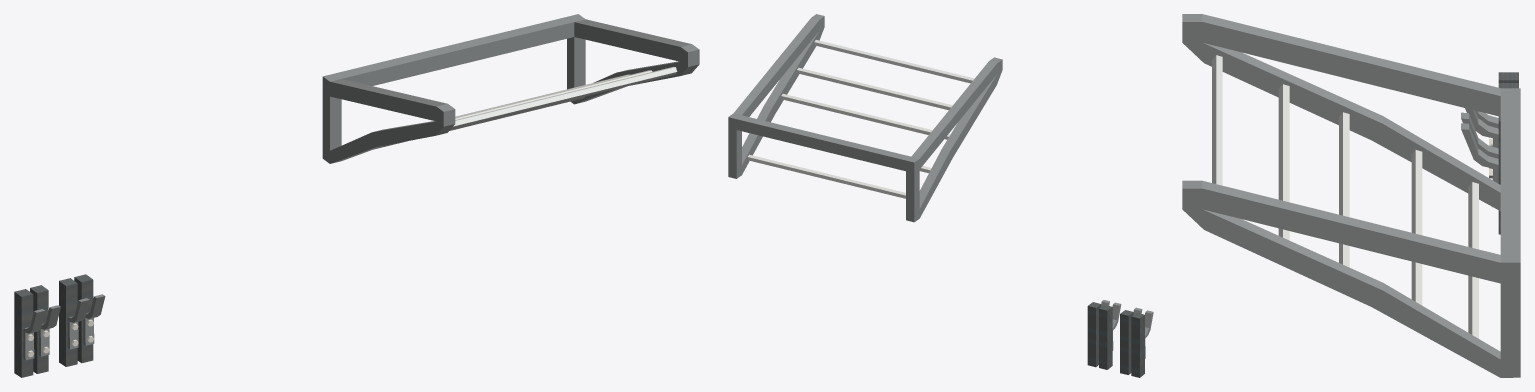
Rendered from gym_decoration_2_v2.glb.
3 views of the same model, side by side, from view 1: azimuth 30°, elevation 25°; view 2: azimuth 150°, elevation 25°; view 3: azimuth 270°, elevation 25° (orthographic). The views are drawn at different scales.
Parts seen in each view (by area): view 1: GymEquipments_15; view 2: GymEquipments_15; view 3: GymEquipments_15.
Part boxes in pixels (box(x1,y1,x2,y2)): GymEquipments_15: box(14, 14, 699, 377); GymEquipments_15: box(728, 14, 1153, 377); GymEquipments_15: box(1182, 14, 1520, 377).
Bounding box in the file's own units: 1.73 × 0.8013 × 0.6415.
Materials: 2 (2 with a texture image).
